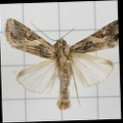Spodoptera litura: (4, 16, 118, 111)
